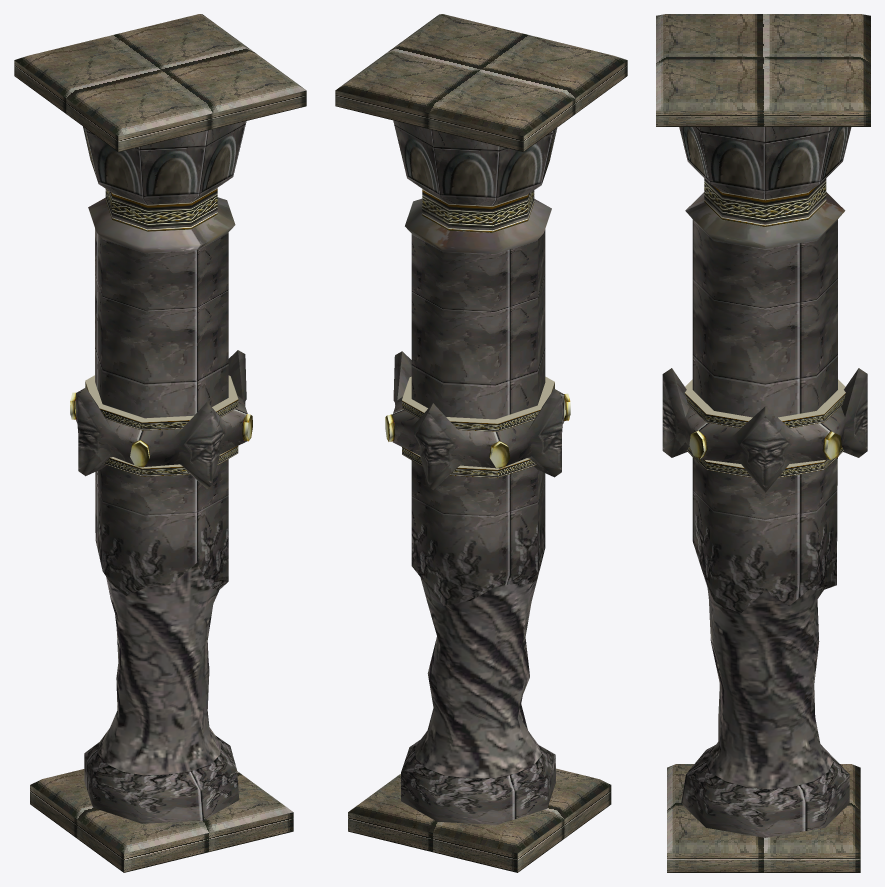
File: INST_SM_COLUMNA.fbx
3 views of the same model, side by side, from view 1: azimuth 30°, elevation 25°; view 2: azimuth 150°, elevation 25°; view 3: azimuth 270°, elevation 25° (orthographic). The views are drawn at different scales.
Parts seen in each view (by area): view 1: INST_SM_COLUMNA; view 2: INST_SM_COLUMNA; view 3: INST_SM_COLUMNA.
Boxes of the visible parts, x1,y1,x2,y2 form: INST_SM_COLUMNA: (14,14,306,872); INST_SM_COLUMNA: (335,14,627,872); INST_SM_COLUMNA: (656,14,870,872).
Size of the model in its own units: 37329 by 141827 by 35754.
Materials: 9 (9 with a texture image).
